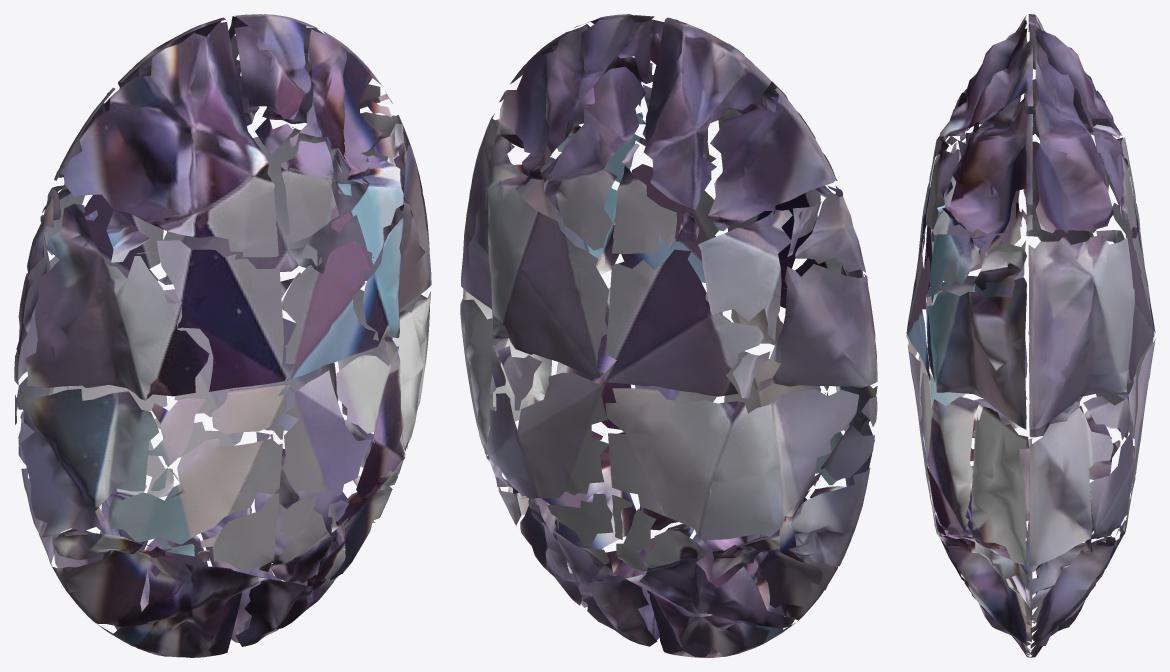
Rendered from crystal_4.glb.
The picture shows the model from 3 angles, left to right: view 1: azimuth 30°, elevation 25°; view 2: azimuth 150°, elevation 25°; view 3: azimuth 270°, elevation 25°; orthographic projection. The views are drawn at different scales.
Visible parts, largest first — view 1: crystal; view 2: crystal; view 3: crystal.
Boxes of the visible parts, x1=… form: crystal: x1=14, y1=14, x2=431, y2=657; crystal: x1=460, y1=14, x2=877, y2=657; crystal: x1=906, y1=14, x2=1155, y2=657.
Bounding box in the file's own units: 0.6688 × 0.9782 × 0.3626.
Materials: 1 (1 with a texture image).
